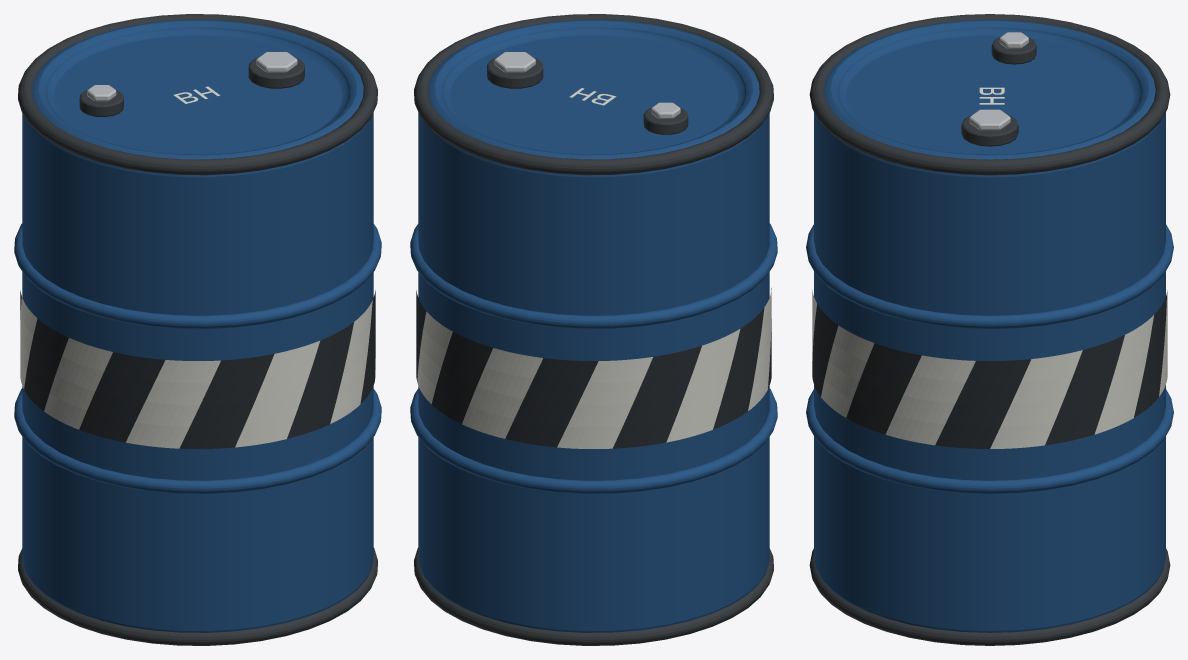
Rendered from barrel_blue.glb.
3 views of the same model, side by side, from view 1: azimuth 30°, elevation 25°; view 2: azimuth 150°, elevation 25°; view 3: azimuth 270°, elevation 25° (orthographic).
Visible parts, largest first — view 1: barrel_blue_body, barrel_blue_decal, barrel_blue_detail; view 2: barrel_blue_body, barrel_blue_decal, barrel_blue_detail; view 3: barrel_blue_body, barrel_blue_decal, barrel_blue_detail.
Part boxes in pixels (<box>): barrel_blue_body: <box>22,20,373,632</box>; barrel_blue_decal: <box>20,86,375,448</box>; barrel_blue_detail: <box>14,14,381,645</box>; barrel_blue_body: <box>418,20,769,632</box>; barrel_blue_decal: <box>416,88,771,448</box>; barrel_blue_detail: <box>410,14,777,645</box>; barrel_blue_body: <box>814,20,1165,632</box>; barrel_blue_decal: <box>812,87,1167,448</box>; barrel_blue_detail: <box>806,14,1173,645</box>.
Bounding box in the file's own units: 0.6067 × 0.8993 × 0.6067.
